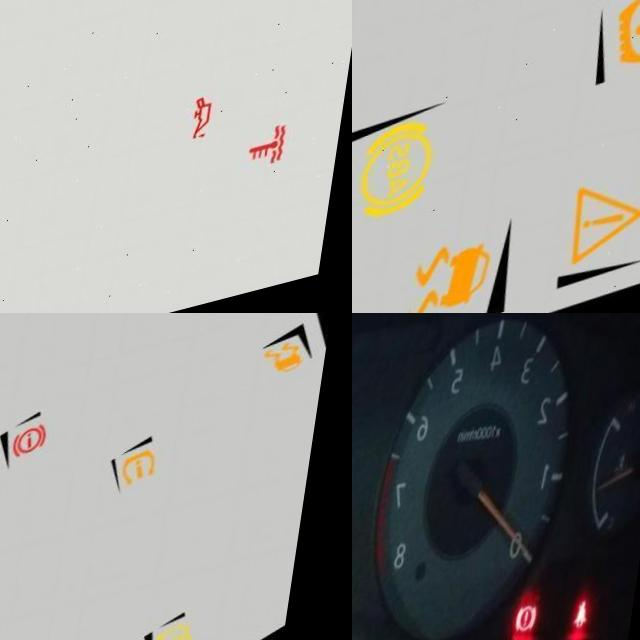Seat Belt: (588, 630, 605, 640)
